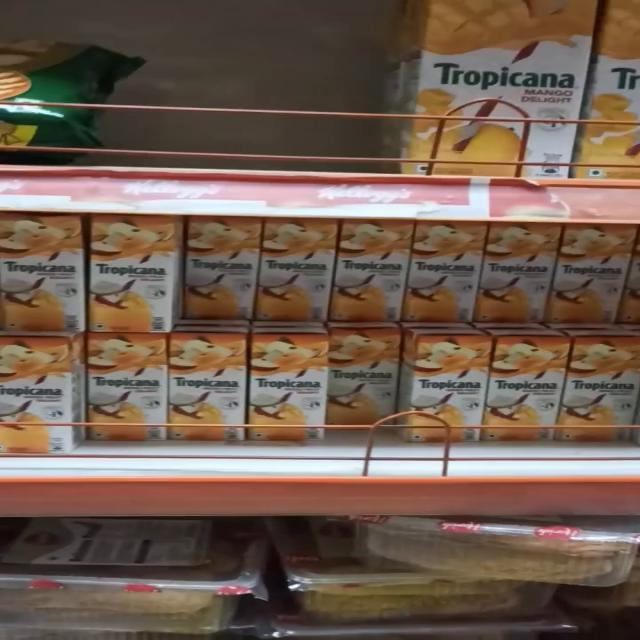Tropicana: (80, 220, 172, 342), (175, 216, 261, 328), (166, 333, 246, 437), (566, 340, 640, 447), (545, 225, 625, 322), (258, 218, 329, 325), (409, 218, 477, 328), (415, 337, 486, 440), (86, 340, 163, 432), (335, 222, 403, 326), (255, 340, 323, 443), (495, 335, 563, 432), (483, 228, 545, 324), (326, 335, 394, 422)
